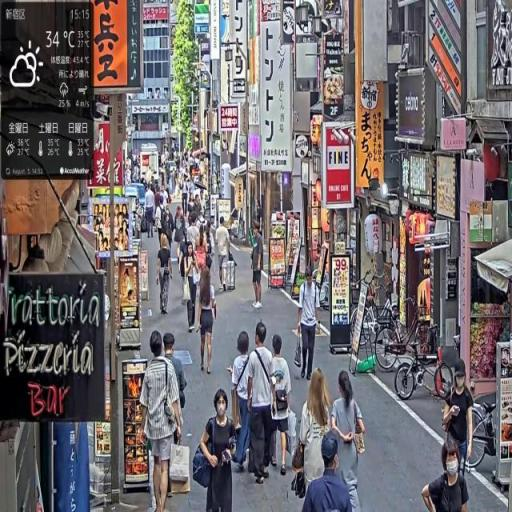person: (139, 331, 185, 512), (196, 388, 240, 512), (294, 366, 335, 499), (247, 321, 278, 487), (332, 370, 367, 502), (304, 429, 355, 512), (442, 363, 475, 479), (422, 438, 469, 512), (270, 334, 294, 478), (230, 331, 254, 473), (296, 268, 323, 383), (197, 260, 219, 376), (163, 334, 186, 409), (157, 232, 174, 319), (250, 224, 265, 312), (216, 216, 233, 292), (145, 185, 156, 240)
